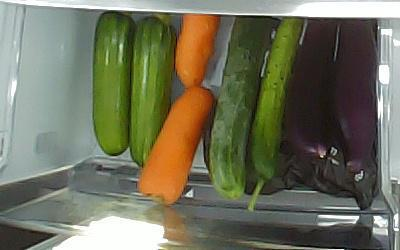carrot: (135, 88, 218, 205), (176, 14, 221, 87)
cucumber: (209, 16, 274, 201), (247, 18, 306, 213)
eggplant: (293, 19, 338, 161), (340, 19, 379, 174)
zucchini: (133, 12, 175, 164), (93, 11, 131, 157)
